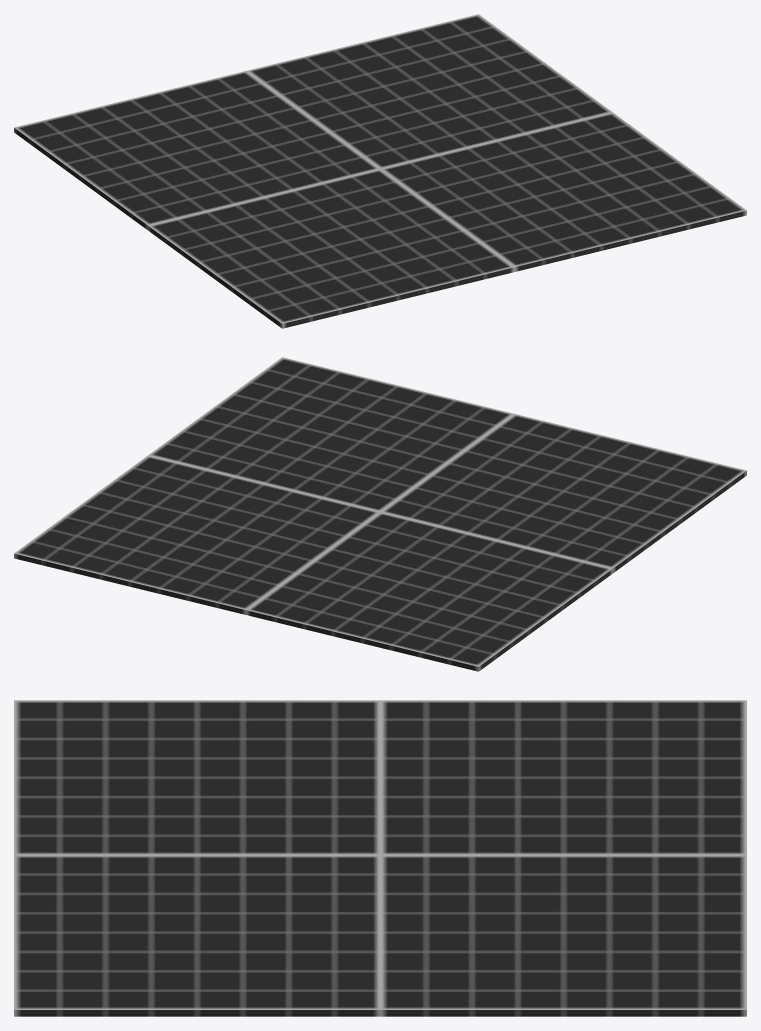
Rendered from terrain.gltf.
3 renders of one model, top to bottom at view 1: azimuth 30°, elevation 25°; view 2: azimuth 150°, elevation 25°; view 3: azimuth 270°, elevation 25°, orthographic. The views are drawn at different scales.
Parts seen in each view (by area): view 1: Terrain; view 2: Terrain; view 3: Terrain.
Boxes of the visible parts, bbox=[...] form: Terrain: bbox=[14, 14, 746, 328]; Terrain: bbox=[14, 357, 746, 671]; Terrain: bbox=[14, 700, 746, 1016].
Size of the model in its own units: 200 by 2 by 200.
Materials: 1 (1 with a texture image).
